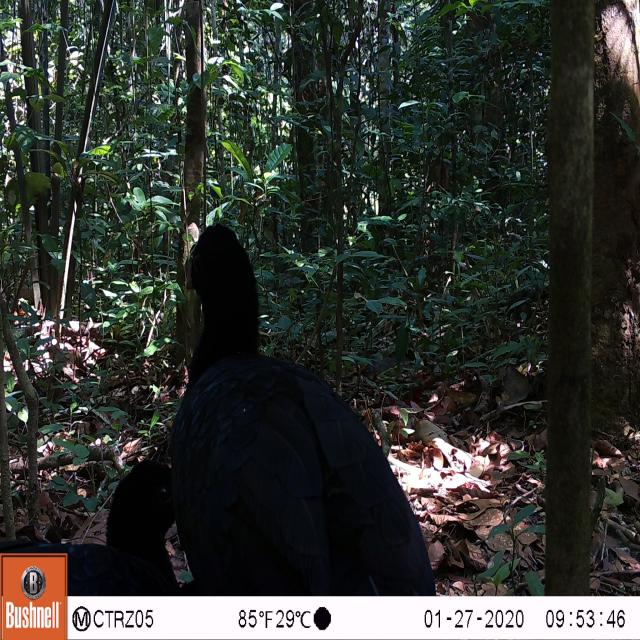Salvins Curassow: (170, 212, 438, 594), (3, 443, 183, 592)
